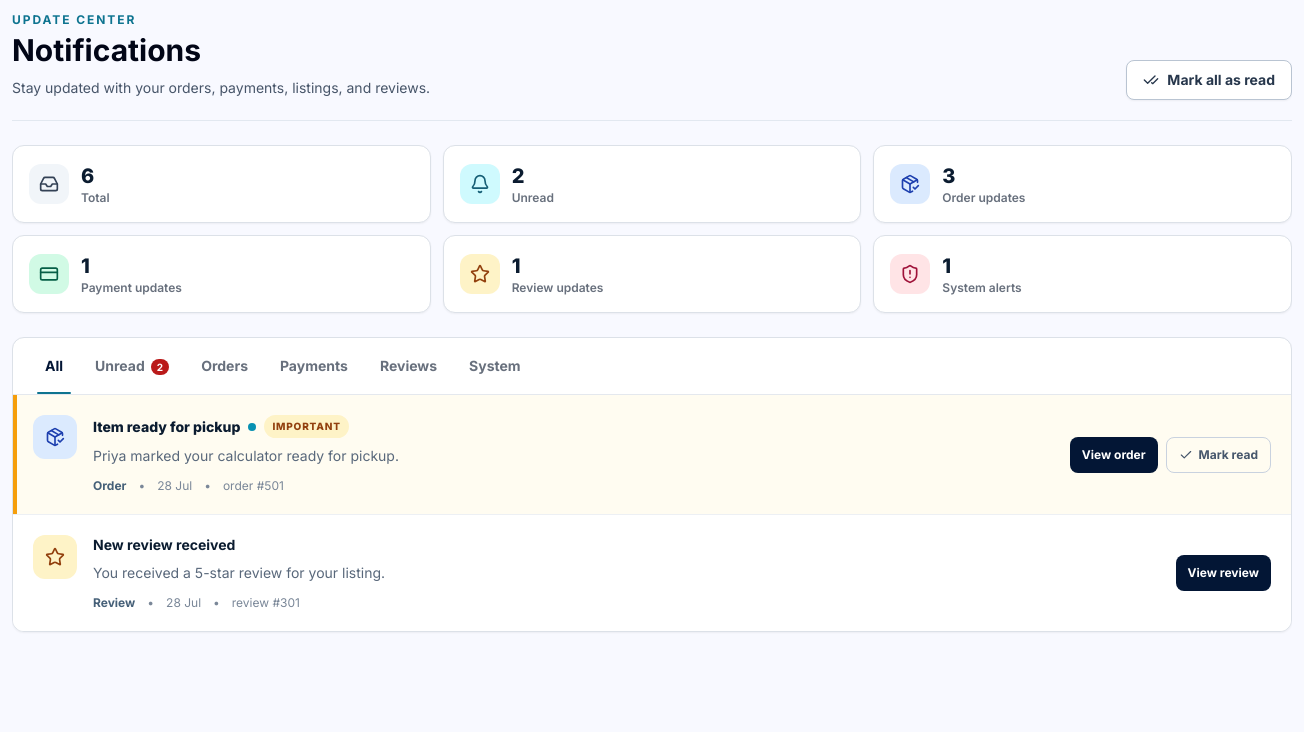
it: NotificationsPage › applies server filters and marks every unread update as read
This screenshot has width=1304, height=732.
Expected: the heading "Item ready for pickup" is shown, [93,416,240,436]
Click the tab "Payments" at (314, 366), box [264,338,364,394]
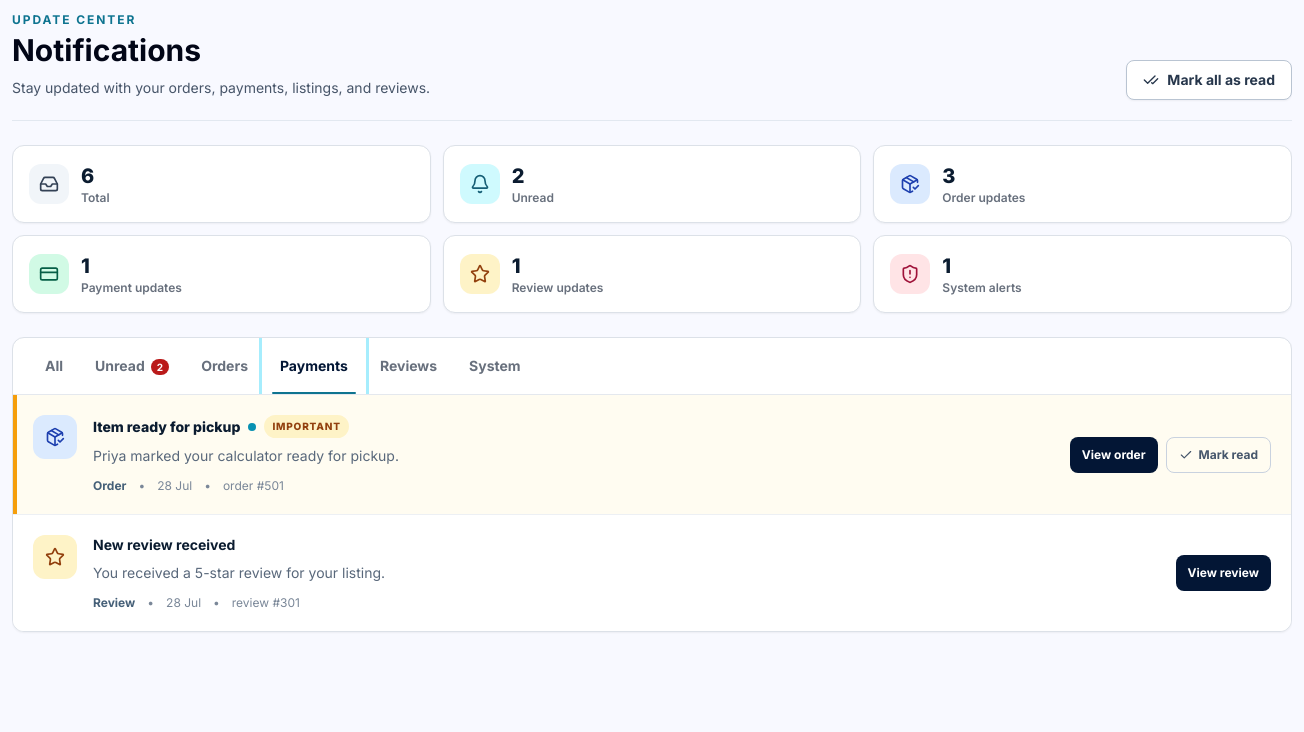
Click the button "Mark all as read" at (1209, 80), box [1126,60,1292,100]
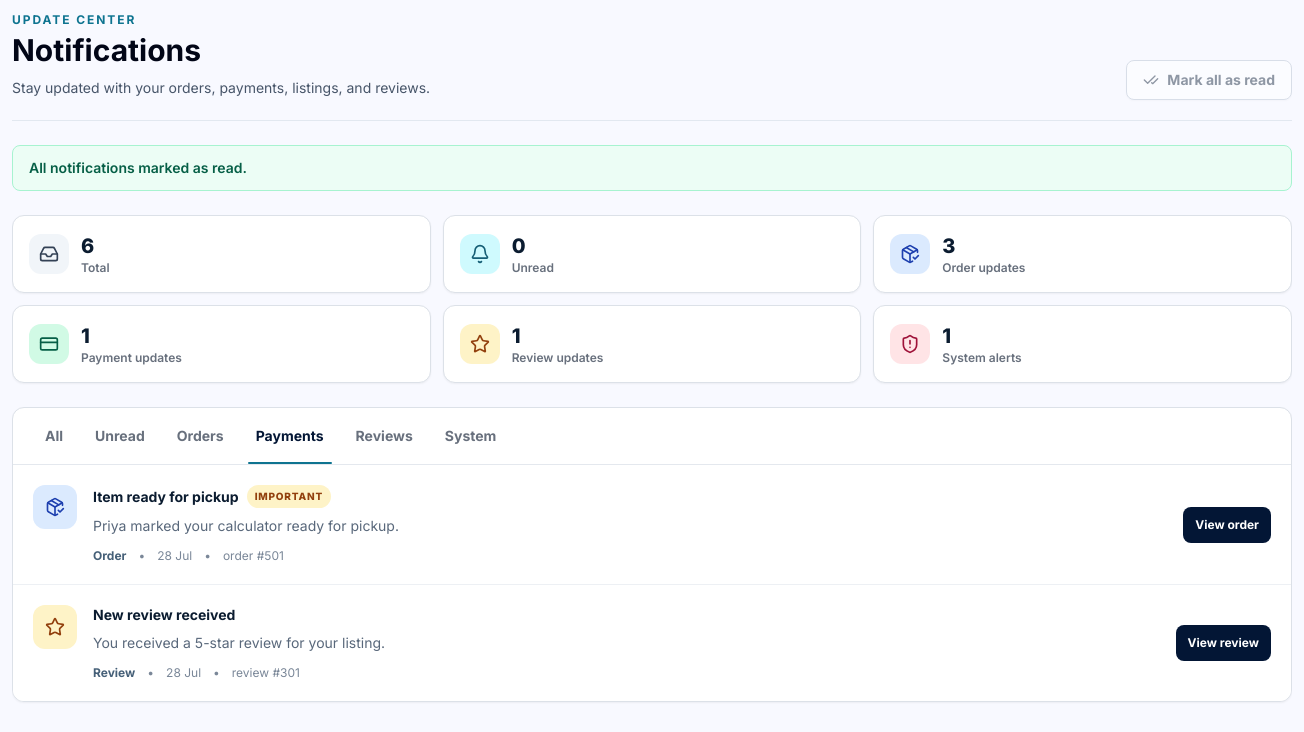
Expected: the text "All notifications marked as read." is shown, [12,145,1292,191]
Expected: the button "Mark all as read" is disabled, [1126,60,1292,100]
